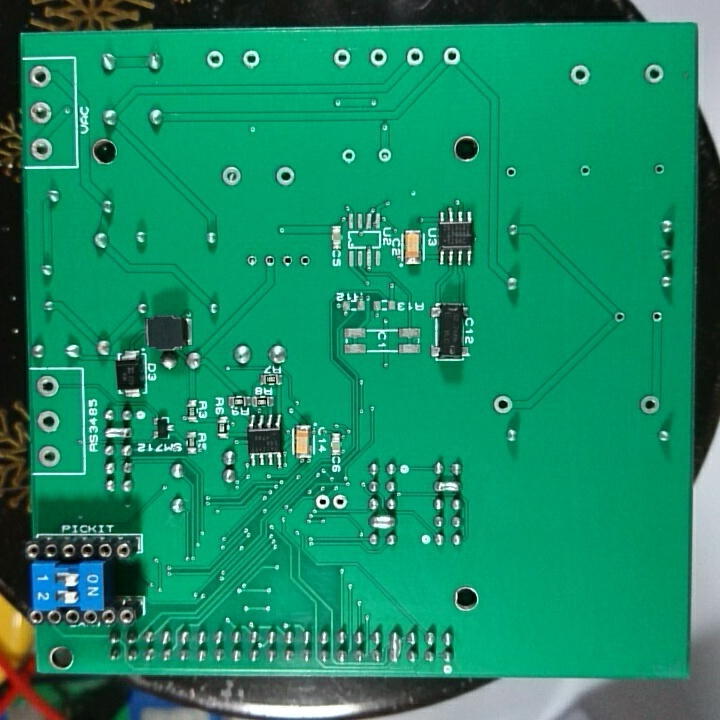F: (565, 60, 597, 91), (29, 134, 58, 163), (26, 64, 55, 92), (638, 389, 664, 420), (27, 98, 54, 126), (35, 408, 62, 435), (35, 372, 61, 399), (490, 392, 517, 418), (641, 58, 665, 87), (329, 46, 359, 69), (36, 443, 64, 467), (275, 162, 299, 190), (441, 44, 464, 72), (220, 165, 246, 189), (368, 45, 390, 72), (204, 49, 229, 71), (239, 48, 263, 70), (339, 146, 361, 168), (403, 45, 425, 66), (313, 492, 332, 515), (331, 492, 350, 514), (648, 307, 667, 327), (375, 146, 396, 163), (262, 252, 279, 271), (613, 307, 628, 328), (297, 252, 312, 272), (503, 163, 520, 180), (244, 252, 261, 268), (578, 163, 594, 180), (279, 253, 294, 270), (651, 160, 663, 178)
P: (388, 626, 404, 665), (367, 512, 398, 531), (433, 478, 463, 495), (101, 425, 134, 440)
